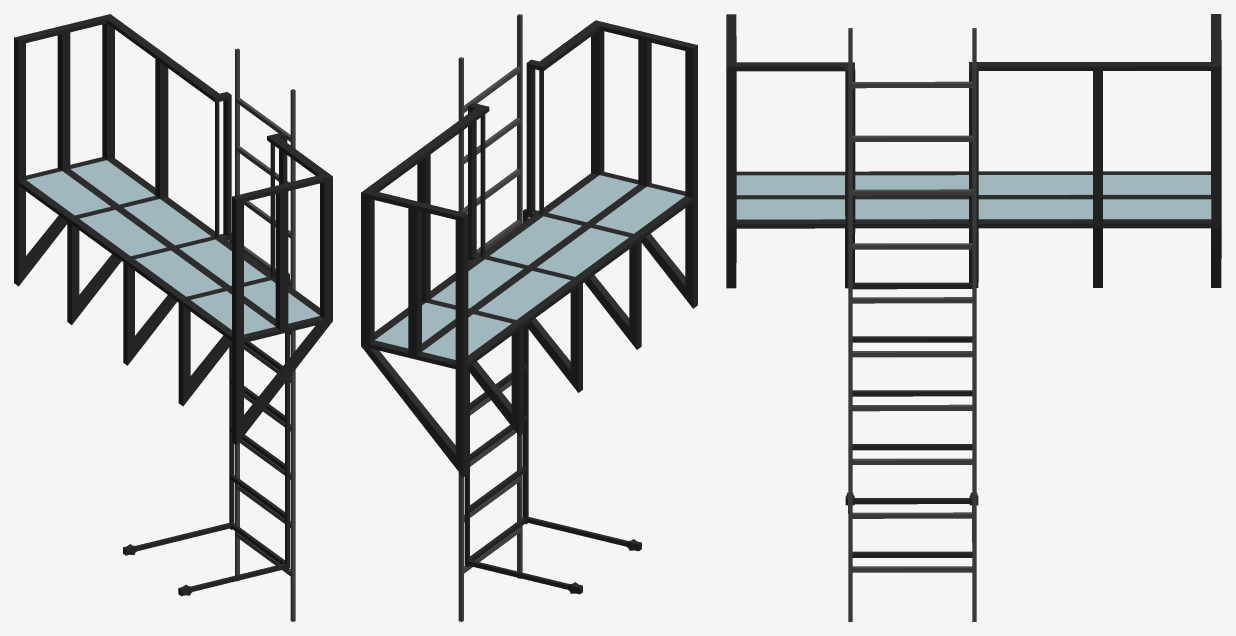
Rendered from red_band_alley_fire_escape_and_balcony.glb.
3 views of the same model, side by side, from view 1: azimuth 30°, elevation 25°; view 2: azimuth 150°, elevation 25°; view 3: azimuth 270°, elevation 25° (orthographic). The views are drawn at different scales.
Parts seen in each view (by area): view 1: bass1_2, bass1glass_0, lad2_1; view 2: bass1_2, bass1glass_0, lad2_1; view 3: bass1_2, bass1glass_0, lad2_1.
Part boxes in pixels (x1,y1,x2,y2): bass1_2: (14, 14, 332, 596); bass1glass_0: (26, 160, 319, 334); lad2_1: (235, 48, 295, 621); bass1_2: (361, 20, 697, 594); bass1glass_0: (375, 175, 684, 359); lad2_1: (458, 14, 522, 621); bass1_2: (726, 14, 1221, 557); bass1glass_0: (736, 175, 1211, 219); lad2_1: (848, 28, 976, 621).
Size of the model in its own units: 0.5992 by 2.64 by 2.
